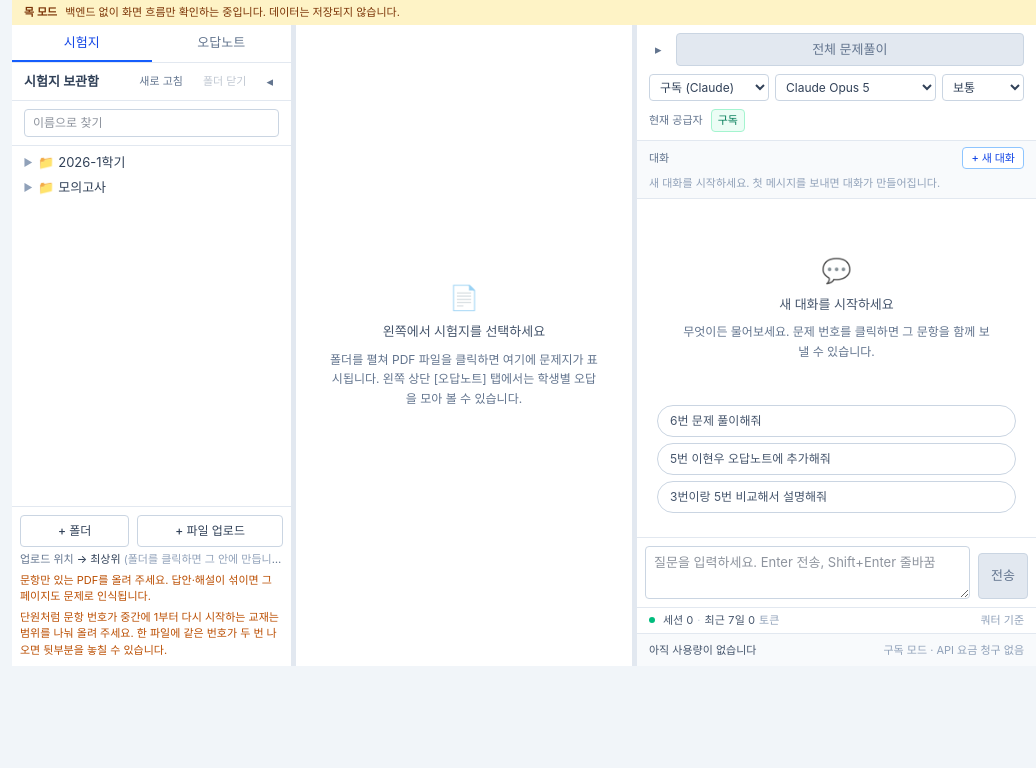
좌측 트리 이름 검색 › 입력하면 비일치 노드가 사라지고, 일치한 곳까지 펼쳐 보여 준다
The width and height of the screenshot is (1036, 768).
Expected: the text "2026-1학기" is shown, [58,154,126,170]
Type "풍문" into the search field named "시험지 이름 검색" at x=152, y=122, box [24,108,279,136]
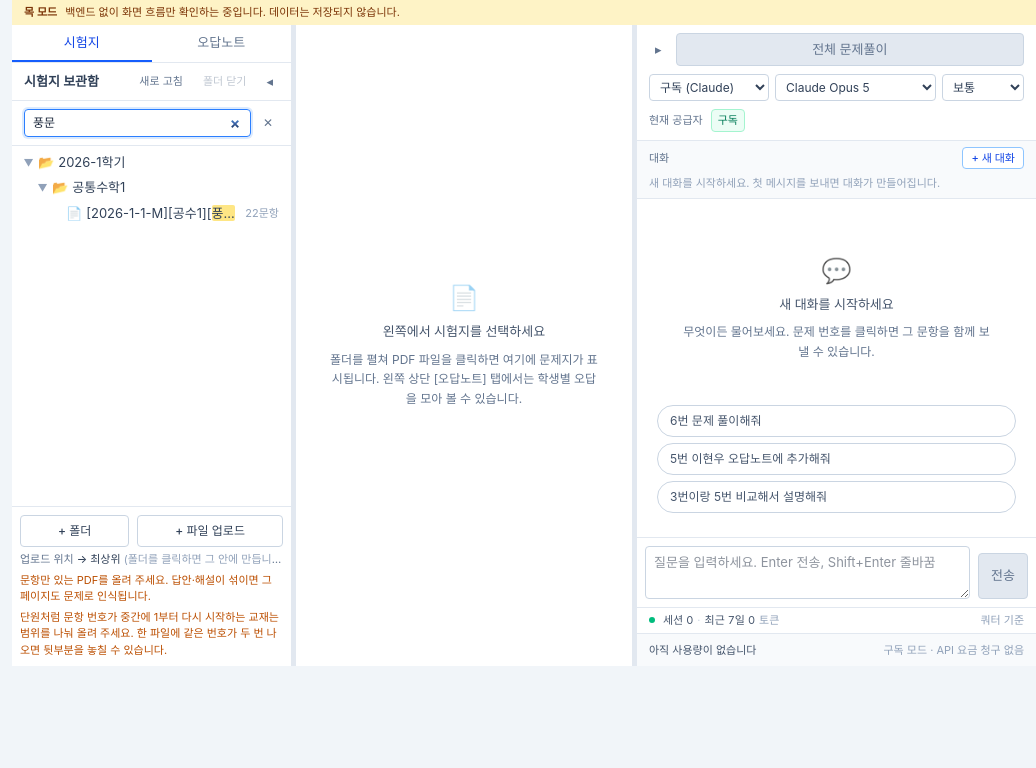
Expected: the list item "📄 [2026-1-1-M][공수1][풍문고].pdf 22문항" is shown, [66,204,279,220]
Expected: the list item "▶ 📂 공통수학1" is shown, [36,179,125,195]
Expected: the text "모의고사" is gone
